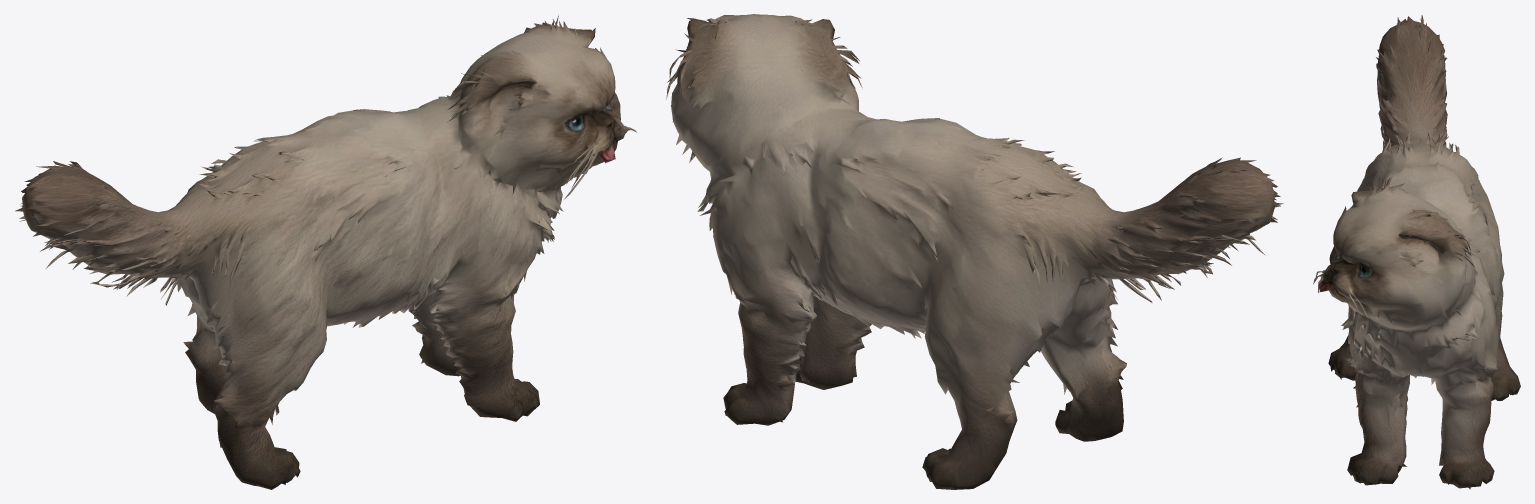
Rendered from MIGGLES.glb.
3 renders of one model, left to right at view 1: azimuth 30°, elevation 25°; view 2: azimuth 150°, elevation 25°; view 3: azimuth 270°, elevation 25°, orthographic. The views are drawn at different scales.
Parts seen in each view (by area): view 1: tripo_node_38ef6e92-af8d-48f3-95af-afebd67e1487; view 2: tripo_node_38ef6e92-af8d-48f3-95af-afebd67e1487; view 3: tripo_node_38ef6e92-af8d-48f3-95af-afebd67e1487.
Boxes of the visible parts, x1,y1,x2,y2 form: tripo_node_38ef6e92-af8d-48f3-95af-afebd67e1487: (15, 15, 637, 489); tripo_node_38ef6e92-af8d-48f3-95af-afebd67e1487: (666, 14, 1283, 489); tripo_node_38ef6e92-af8d-48f3-95af-afebd67e1487: (1313, 15, 1520, 489).
Bounding box in the file's own units: 1.77 × 1 × 0.6352.
Materials: 1 (1 with a texture image).
